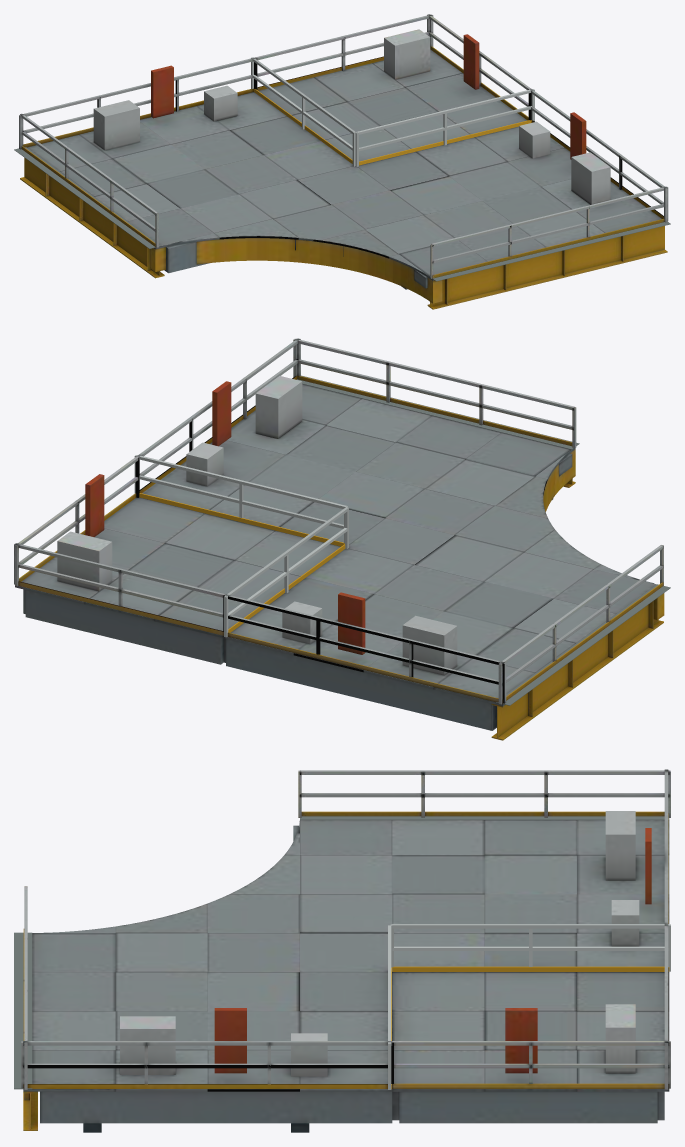
File: deck_quad_v5_far.glb
3 renders of one model, top to bottom at view 1: azimuth 30°, elevation 25°; view 2: azimuth 150°, elevation 25°; view 3: azimuth 270°, elevation 25°, orthographic. The views are drawn at different scales.
Visible parts, largest first — view 1: body, opt_corner, opt_edgeA_slot, opt_edgeB_slot, opt_cornercut, opt_edgeB_seam, opt_edgeA_seam; view 2: body, opt_corner, opt_edgeB_slot, opt_cornercut, opt_edgeA_slot, opt_edgeB_seam, opt_edgeA_seam; view 3: body, opt_corner, opt_edgeB_slot, opt_cornercut, opt_edgeA_seam, opt_edgeA_slot, opt_edgeB_seam.
Boxes of the visible parts, bbox=[...] form: body: bbox=[19, 57, 667, 303]; opt_corner: bbox=[254, 14, 531, 161]; opt_edgeA_slot: bbox=[427, 186, 668, 309]; opt_edgeB_slot: bbox=[20, 113, 164, 278]; opt_cornercut: bbox=[251, 57, 534, 166]; opt_edgeB_seam: bbox=[14, 147, 160, 248]; opt_edgeA_seam: bbox=[430, 222, 670, 281]; body: bbox=[136, 338, 664, 730]; opt_corner: bbox=[14, 456, 340, 664]; opt_edgeB_slot: bbox=[491, 545, 663, 740]; opt_cornercut: bbox=[134, 455, 348, 637]; opt_edgeA_slot: bbox=[293, 338, 576, 487]; opt_edgeB_seam: bbox=[496, 584, 670, 705]; opt_edgeA_seam: bbox=[297, 375, 579, 449]; body: bbox=[21, 769, 669, 1132]; opt_corner: bbox=[392, 926, 670, 1123]; opt_edgeB_slot: bbox=[298, 770, 670, 817]; opt_cornercut: bbox=[388, 924, 670, 1089]; opt_edgeA_seam: bbox=[14, 932, 32, 1089]; opt_edgeA_slot: bbox=[23, 886, 37, 1130]; opt_edgeB_seam: bbox=[300, 816, 669, 819].
Size of the model in its own units: 14.24 by 2.76 by 14.24.
Materials: 6 (4 with a texture image).
